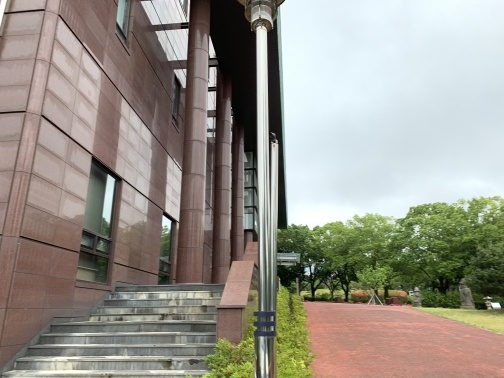Museum: (58, 2, 300, 376)
